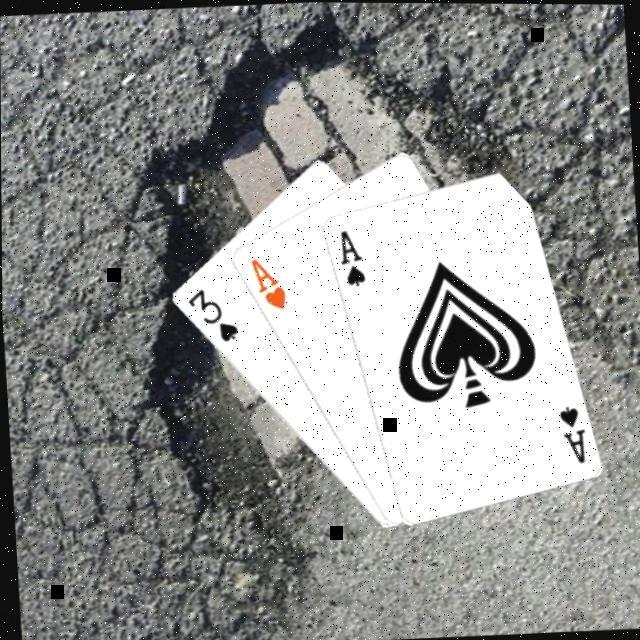3S: (182, 286, 240, 348)
AH: (244, 255, 287, 315)
AS: (552, 402, 586, 468), (332, 228, 365, 290)
